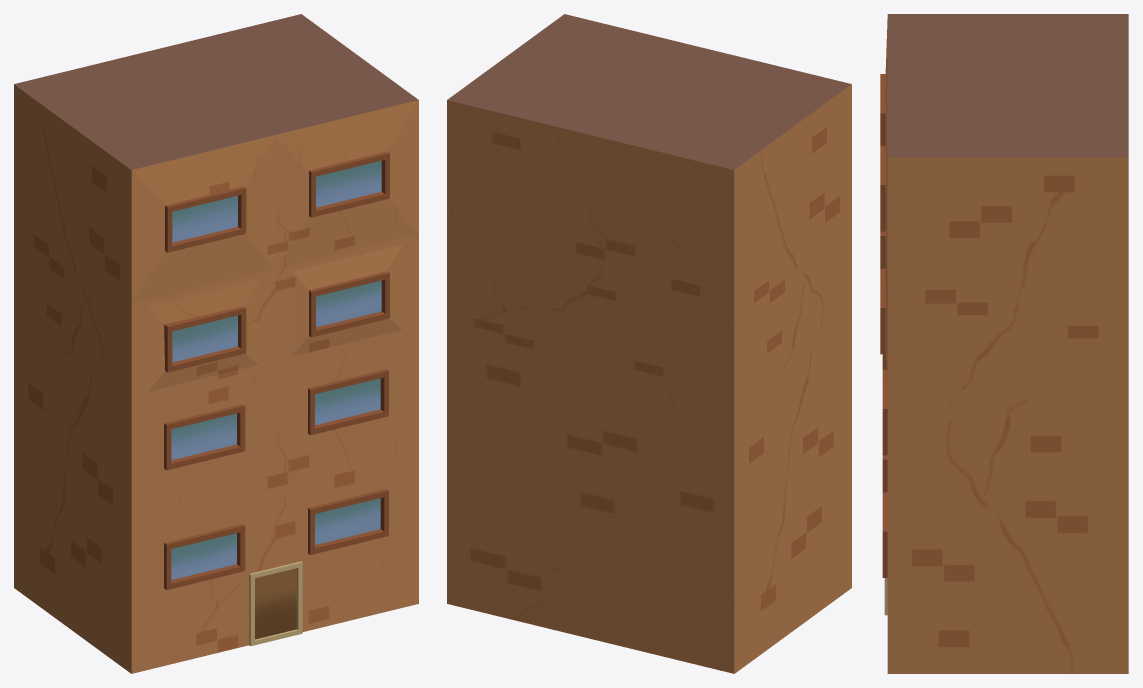
The model's file is Bulid_Tall.fbx.
3 views of the same model, side by side, from view 1: azimuth 30°, elevation 25°; view 2: azimuth 150°, elevation 25°; view 3: azimuth 270°, elevation 25° (orthographic). The views are drawn at different scales.
Parts seen in each view (by area): view 1: Cube; view 2: Cube; view 3: Cube.
Part boxes in pixels (x1=…): Cube: x1=14, y1=14, x2=418, y2=673; Cube: x1=447, y1=14, x2=851, y2=673; Cube: x1=880, y1=14, x2=1128, y2=673.
Size of the model in its own units: 2029 by 3397 by 1480.
Materials: 1 (1 with a texture image).
